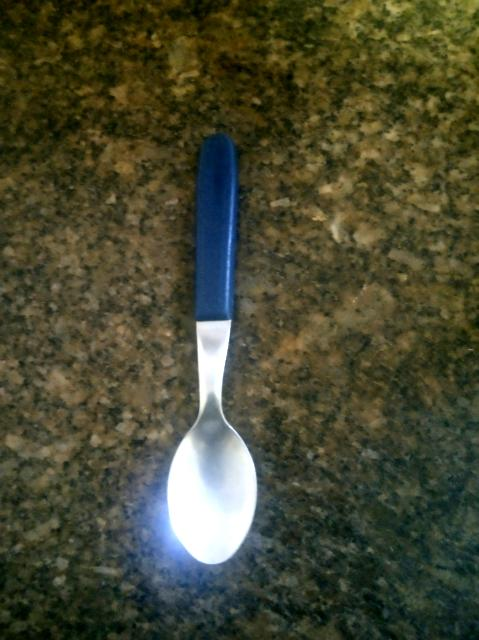Spoon: (168, 135, 257, 563)
